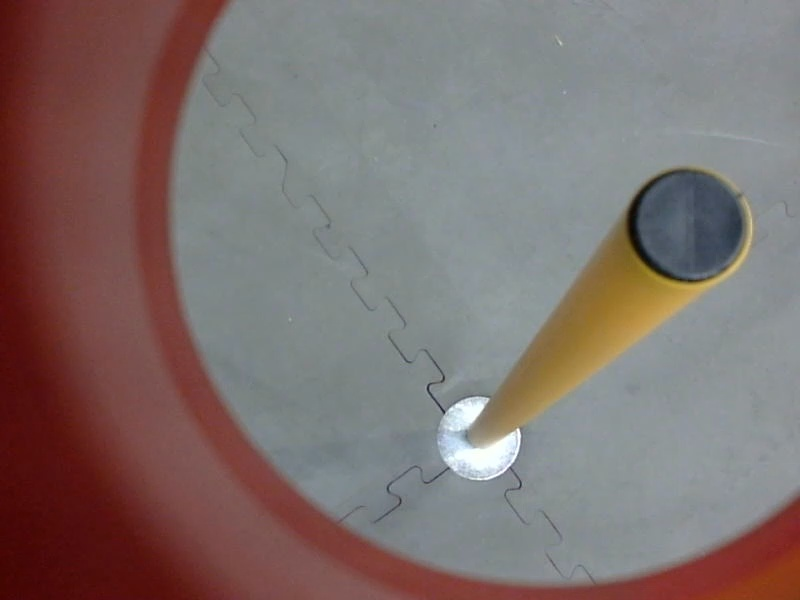tip: (618, 156, 766, 293)
